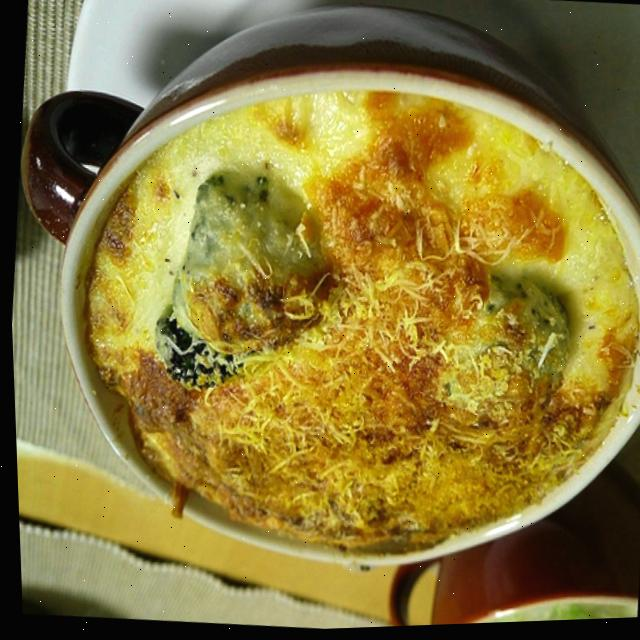米饭主食: (34, 27, 640, 595)
